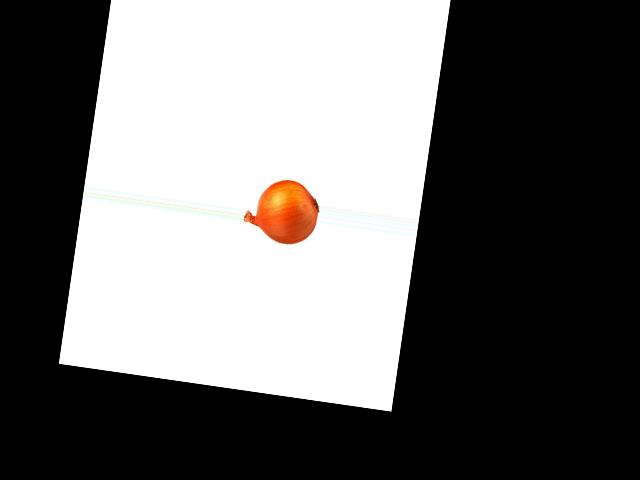onion: (249, 175, 321, 249)
